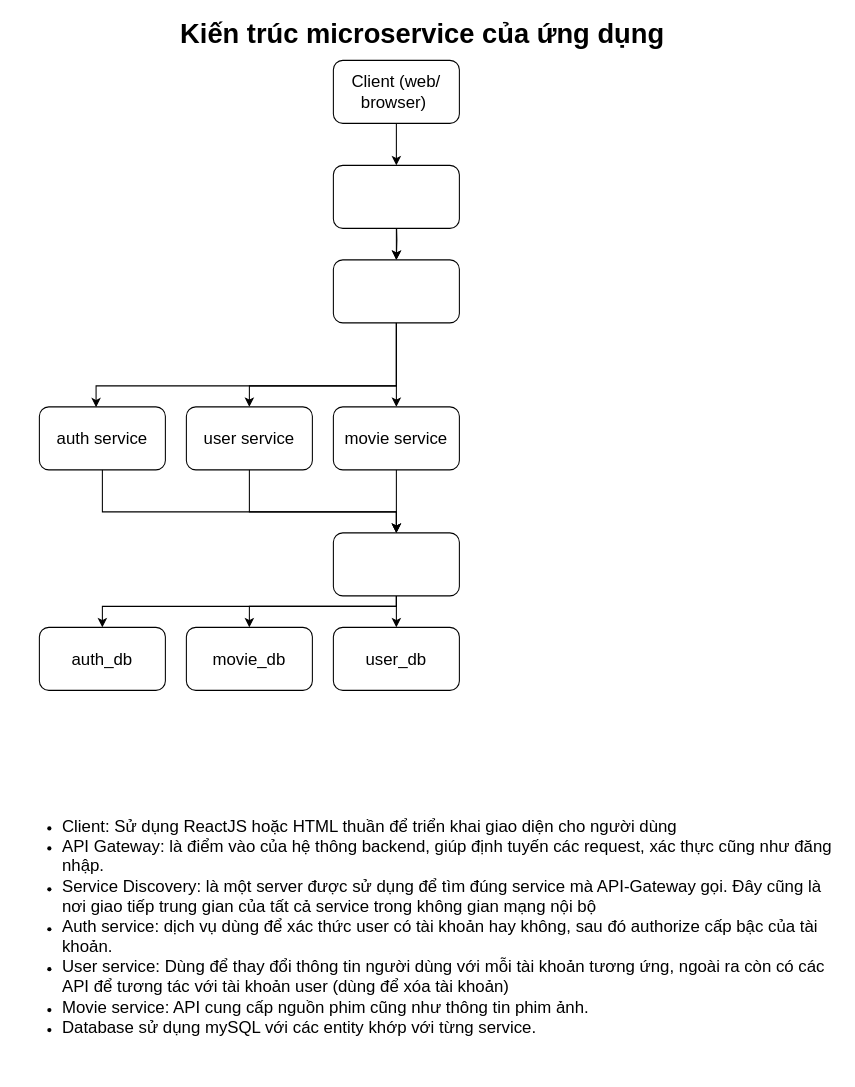
Some shapes in this 855 by 1087 pixel diagram are drawn without their labels. Here are the shapes that lost their labels. From the top down, the centre of each, then its label:
(x=395, y=196): API Gateway
(x=395, y=291): Service Discovery
(x=395, y=564): database MySQL
